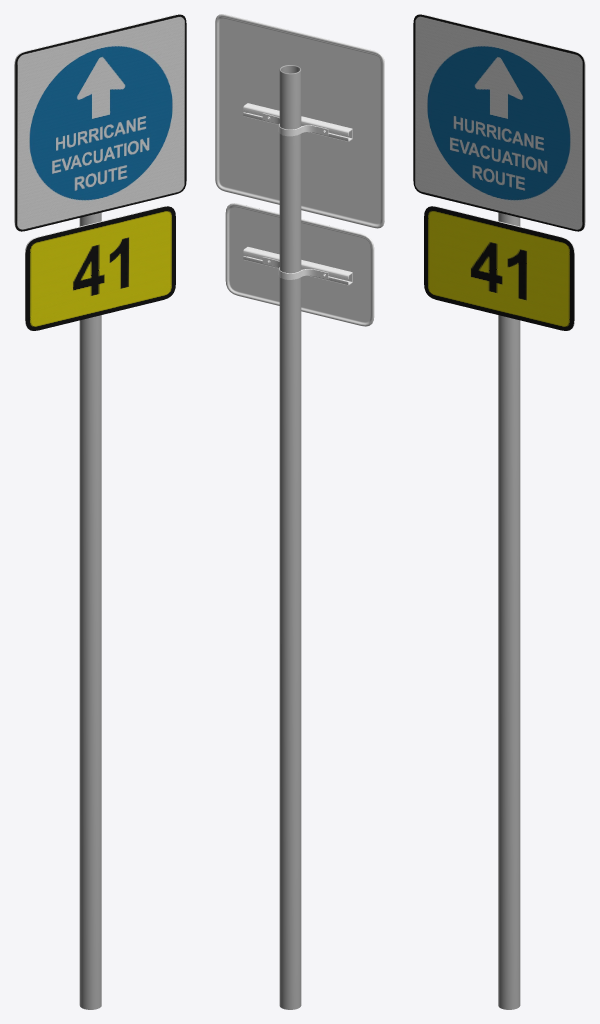
Rendered from sign-eu-02.glb.
3 views of the same model, side by side, from view 1: azimuth 30°, elevation 25°; view 2: azimuth 150°, elevation 25°; view 3: azimuth 330°, elevation 25° (orthographic).
Parts seen in each view (by area): view 1: vm_ST_sign_02; view 2: vm_ST_sign_02; view 3: vm_ST_sign_02.
Boxes of the visible parts, x1,y1,x2,y2 form: vm_ST_sign_02: (14,14,186,1009); vm_ST_sign_02: (215,14,384,1009); vm_ST_sign_02: (413,14,585,1009).
Size of the model in its own units: 0.5152 by 2.81 by 0.0845.
Materials: 4 (2 with a texture image).
